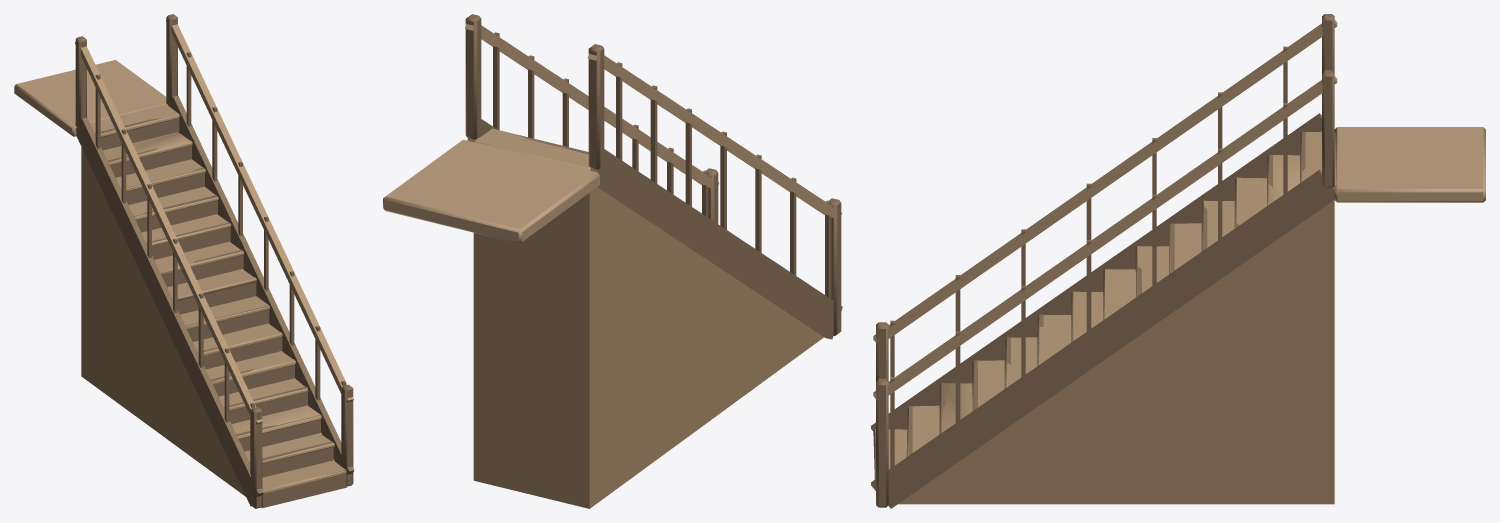
Rendered from int_stair.glb.
3 renders of one model, left to right at view 1: azimuth 30°, elevation 25°; view 2: azimuth 150°, elevation 25°; view 3: azimuth 270°, elevation 25°, orthographic. The views are drawn at different scales.
Parts seen in each view (by area): view 1: int_stair; view 2: int_stair; view 3: int_stair.
Part boxes in pixels (<box>): int_stair: <box>14,14,354,508</box>; int_stair: <box>383,14,842,508</box>; int_stair: <box>871,14,1485,508</box>.
Size of what is drawn, in the model's own units: 1.2 by 3.81 by 4.88.
